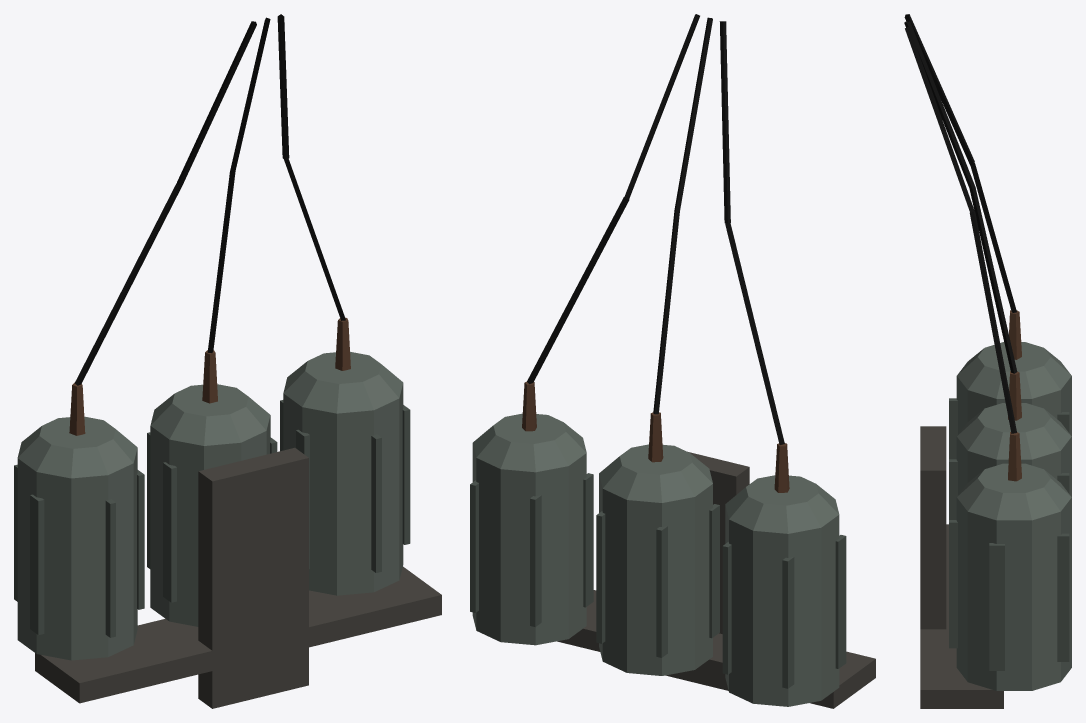
File: transformer.glb
3 renders of one model, left to right at view 1: azimuth 30°, elevation 25°; view 2: azimuth 150°, elevation 25°; view 3: azimuth 270°, elevation 25°, orthographic. The views are drawn at different scales.
Visible parts, largest first — view 1: transformer; view 2: transformer; view 3: transformer.
Part boxes in pixels (bbox=[...]): transformer: bbox=[14, 14, 441, 708]; transformer: bbox=[470, 14, 875, 708]; transformer: bbox=[904, 14, 1071, 708].
Size of the model in its own units: 1.54 by 2.7 by 0.6413.
